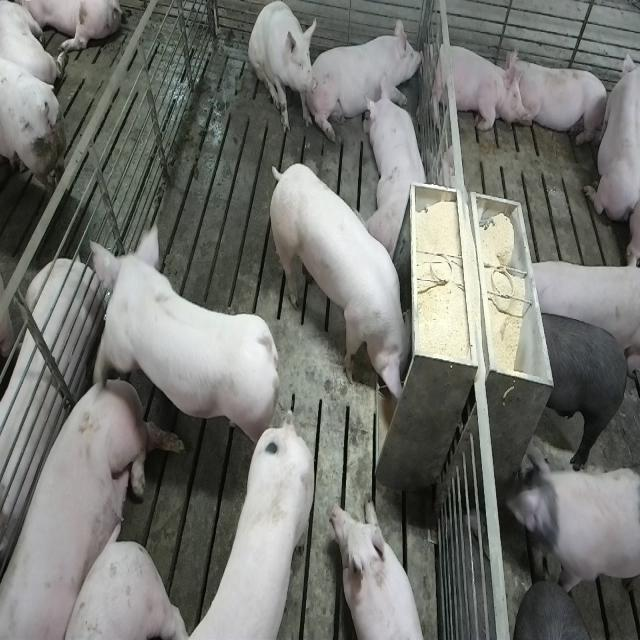Feeding: (272, 162, 420, 410)
Lateral_lying: (0, 378, 174, 640)
Sitting: (248, 1, 318, 136)
Standing: (82, 230, 278, 473), (177, 418, 321, 640), (505, 442, 639, 612), (536, 305, 629, 464), (522, 260, 638, 356), (514, 574, 604, 638)
Sternal_lying: (315, 13, 423, 139), (333, 500, 430, 640), (366, 82, 431, 256), (584, 41, 638, 233), (510, 51, 610, 149), (425, 36, 521, 134)
